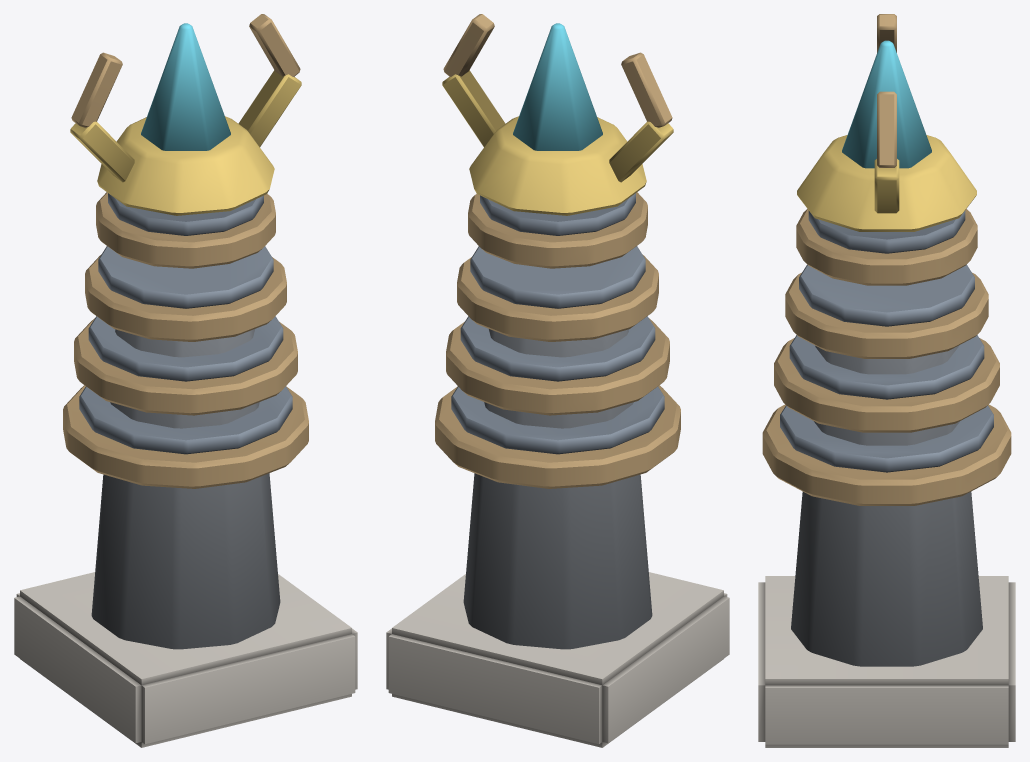
The model's file is hidden_proctor_tesla_lod0.glb.
The picture shows the model from 3 angles, left to right: view 1: azimuth 30°, elevation 25°; view 2: azimuth 150°, elevation 25°; view 3: azimuth 270°, elevation 25°; orthographic projection.
Visible parts, largest first — view 1: hidden_proctor_tesla; view 2: hidden_proctor_tesla; view 3: hidden_proctor_tesla.
Part boxes in pixels (x1,y1,x2,y2): hidden_proctor_tesla: (14,14,357,747); hidden_proctor_tesla: (386,14,729,747); hidden_proctor_tesla: (758,14,1015,747).
Size of the model in its own units: 1.15 by 3.23 by 1.15.
